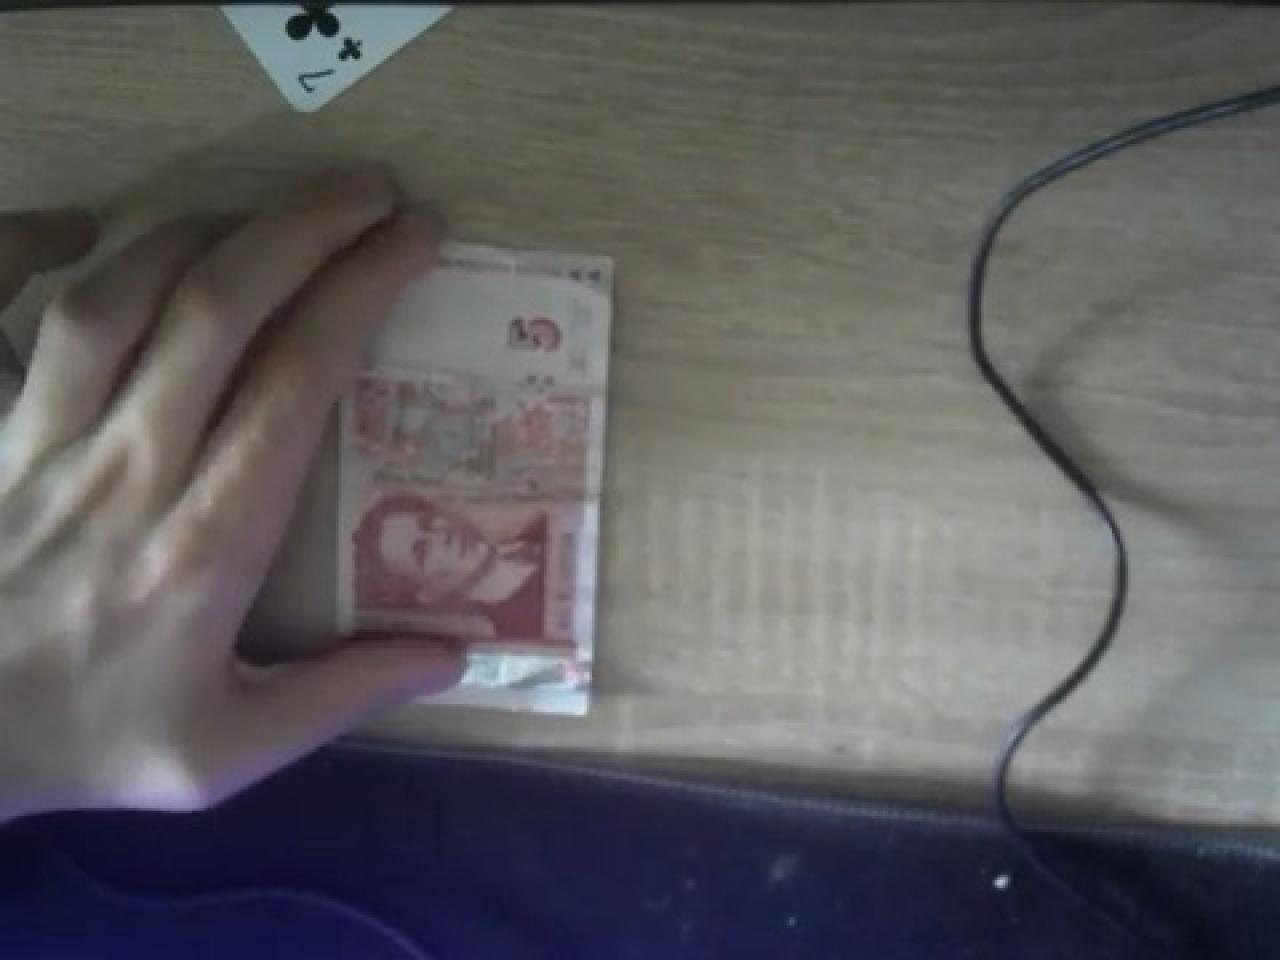5leva: (277, 235, 619, 715)
